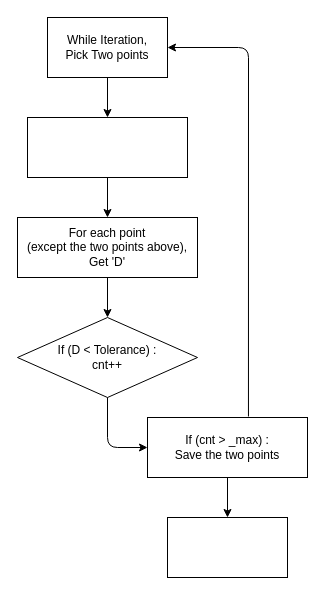
Image size: 325x595. Some labels were removed from this diagram. The shapes that lost their labels are listed below. From the top down, each one's centre as x and y in pixels, then its label:
point (107, 147): Set equation of a Line using Two points
point (227, 547): Using two points, Get Inliers
